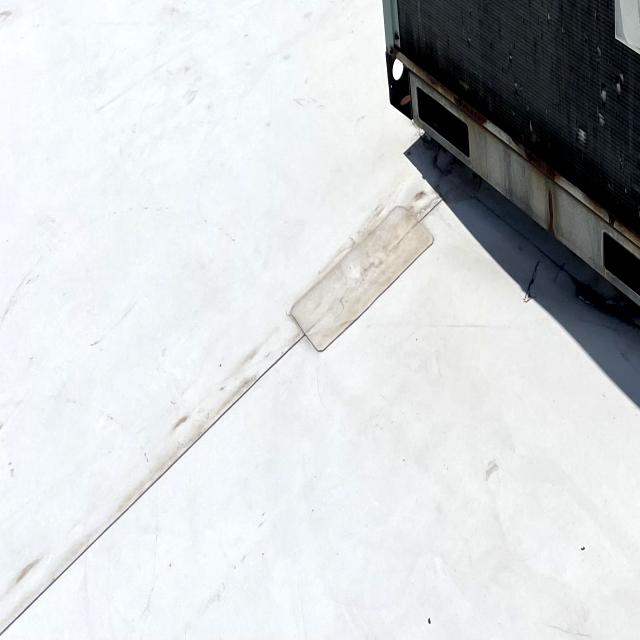RTU: (348, 0, 640, 395)
